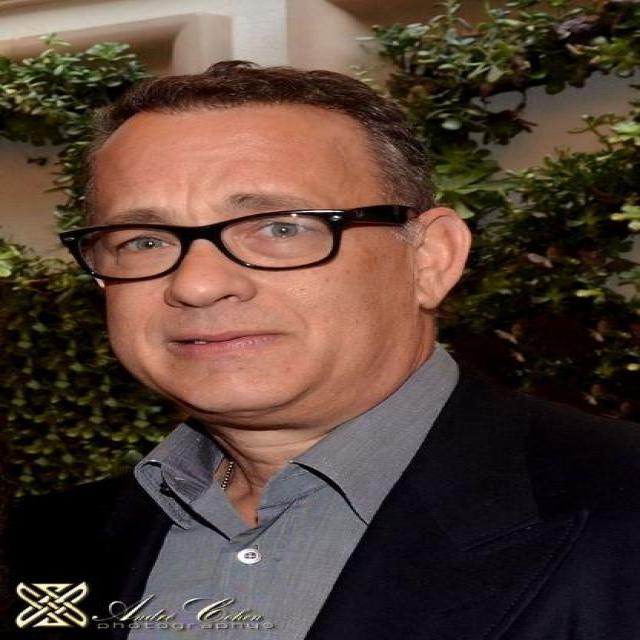glasses: (61, 205, 406, 282)
